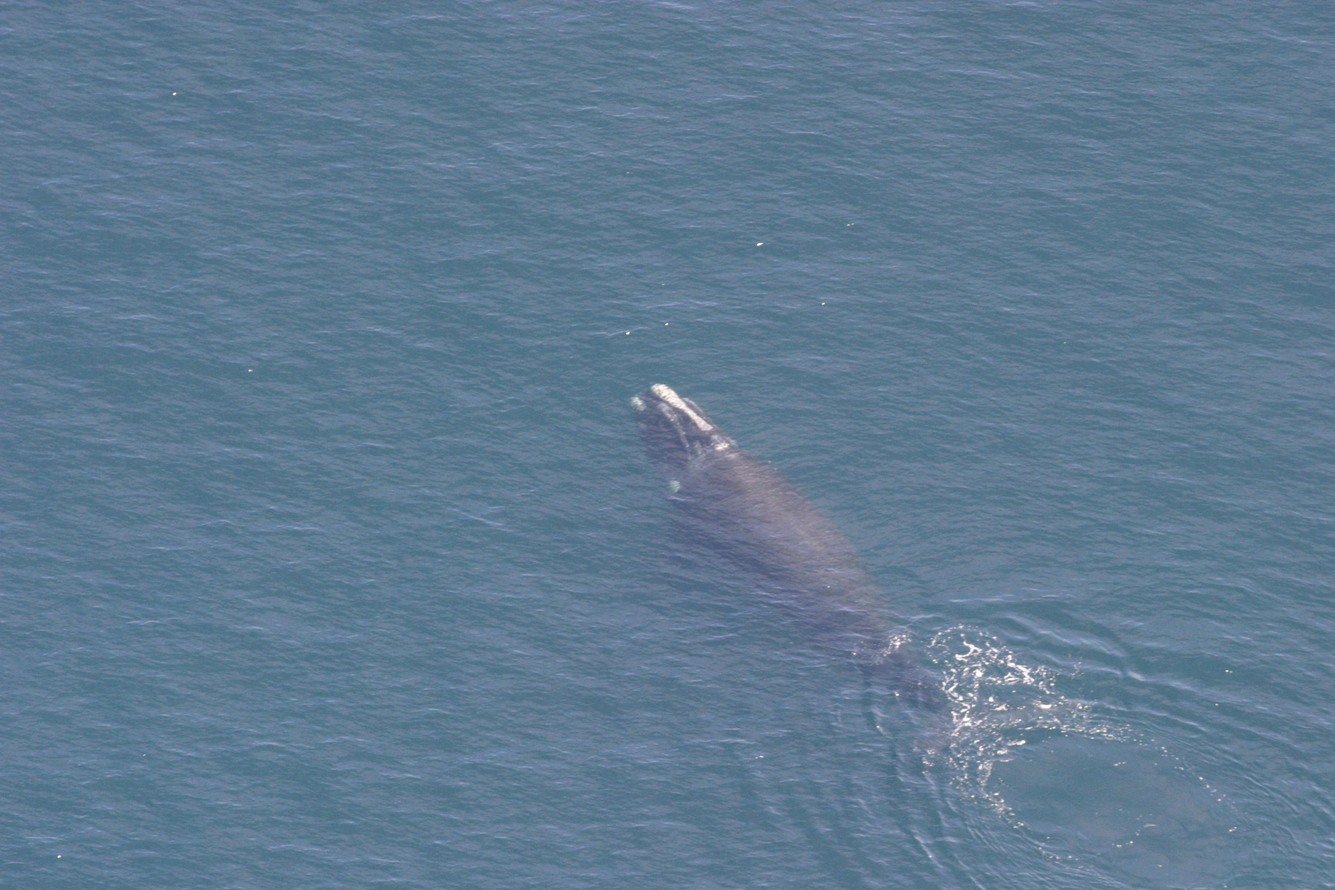whale: (621, 375, 1112, 795)
